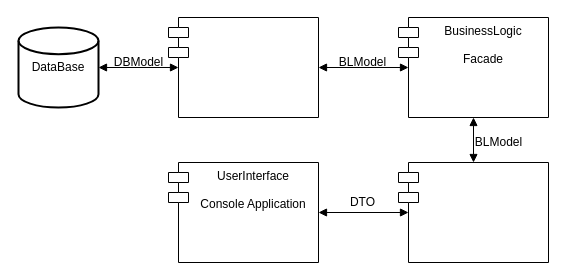
Image size: 566x280. Some labels were removed from this diagram. The centre of each missing label's shape, as x and y in pixels:
DataAccess DataBase Context, Repositories, reposirories' factory: point 243,67
Gateway Presenter: point 473,212
